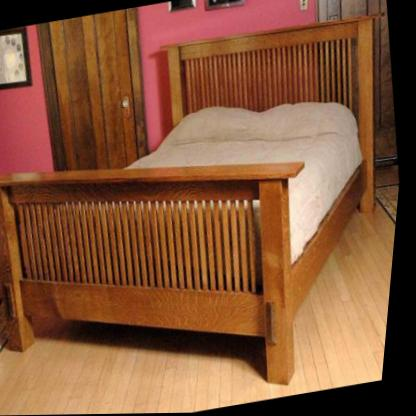Bed: (0, 6, 415, 416)
